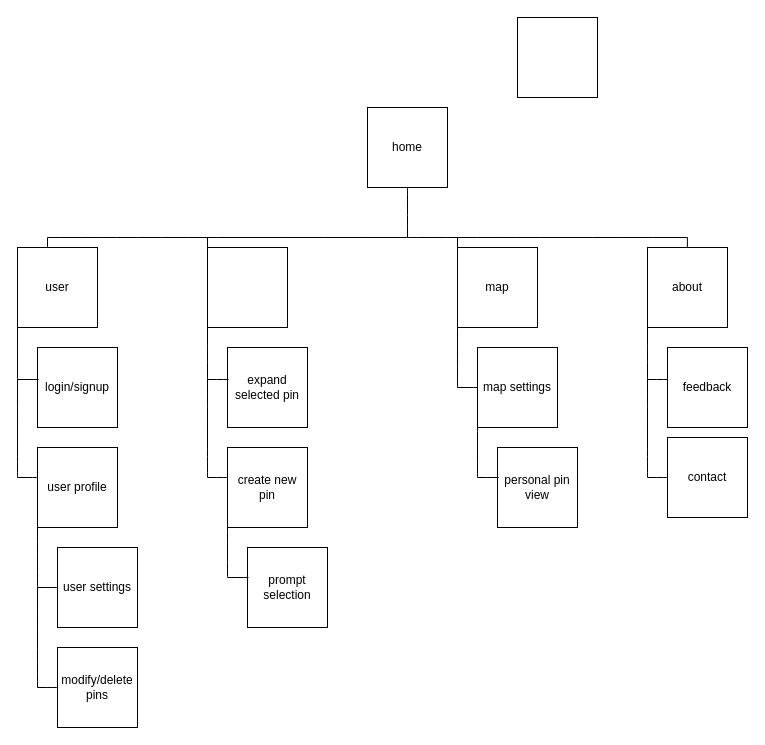
Some shapes in this 765 by 745 pixel diagram are drawn without their labels. The shapes that lost their labels are listed below. From the top down, each one's centre as x and y in pixels, then its label:
pixel 557 57: "tutorial" pop up
pixel 247 287: pins
